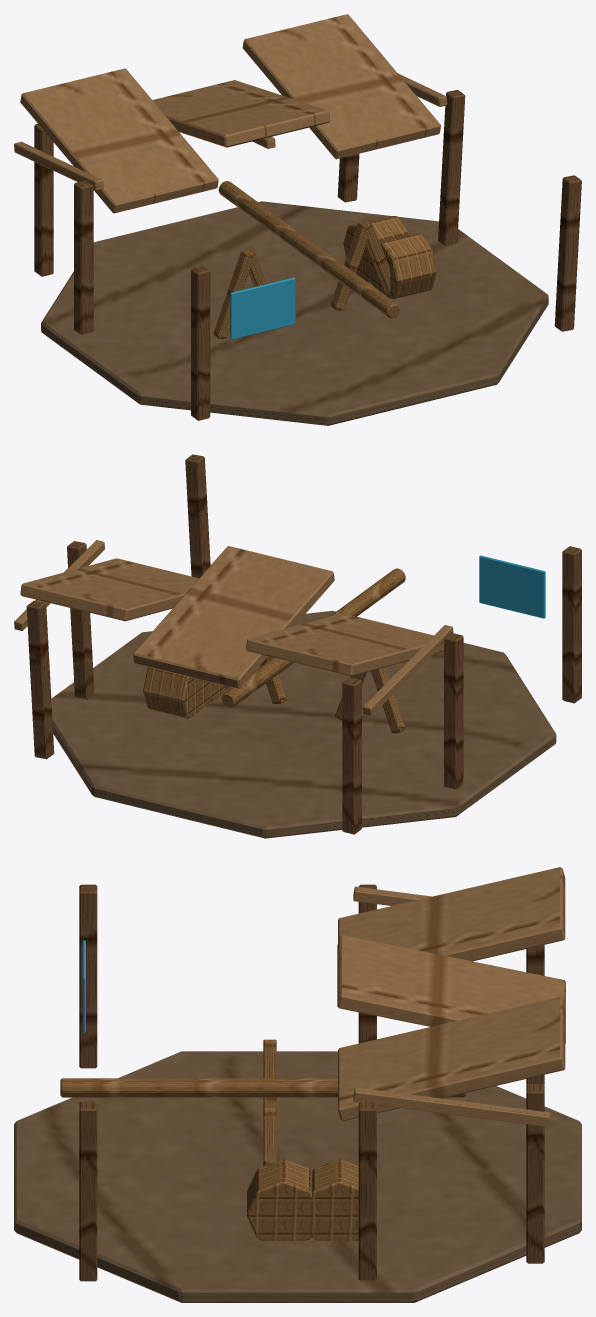
File: edificio-b_016-e0-3FWQJZ_9.glb
3 renders of one model, top to bottom at view 1: azimuth 30°, elevation 25°; view 2: azimuth 150°, elevation 25°; view 3: azimuth 270°, elevation 25°, orthographic. The views are drawn at different scales.
Visible parts, largest first — view 1: envolvente_fabrica_asedio_e0, mecanismo_fabrica_asedio_e0, team_color; view 2: envolvente_fabrica_asedio_e0, mecanismo_fabrica_asedio_e0, team_color; view 3: envolvente_fabrica_asedio_e0, mecanismo_fabrica_asedio_e0.
Boxes of the visible parts, x1,y1,x2,y2 form: envolvente_fabrica_asedio_e0: [14, 14, 581, 425]; mecanismo_fabrica_asedio_e0: [213, 181, 436, 339]; team_color: [230, 277, 295, 339]; envolvente_fabrica_asedio_e0: [14, 454, 581, 838]; mecanismo_fabrica_asedio_e0: [143, 568, 405, 733]; team_color: [479, 555, 545, 618]; envolvente_fabrica_asedio_e0: [14, 867, 581, 1302]; mecanismo_fabrica_asedio_e0: [60, 1039, 465, 1240].
Size of the model in its own units: 40.65 by 17.55 by 40.65.
Materials: 2 (1 with a texture image).
